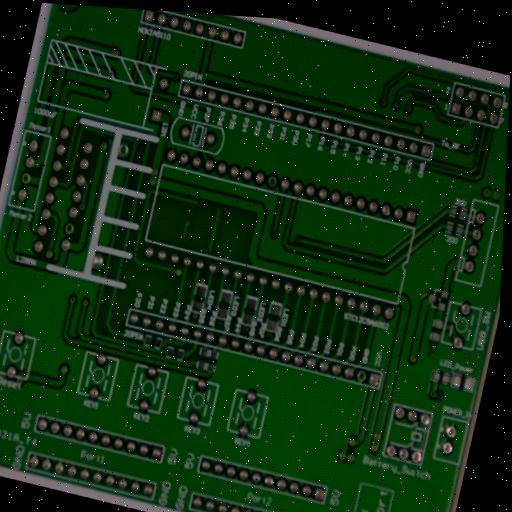missing_hole: (263, 171, 281, 192), (115, 140, 132, 160), (61, 219, 78, 238), (354, 367, 369, 384), (18, 170, 32, 186)
